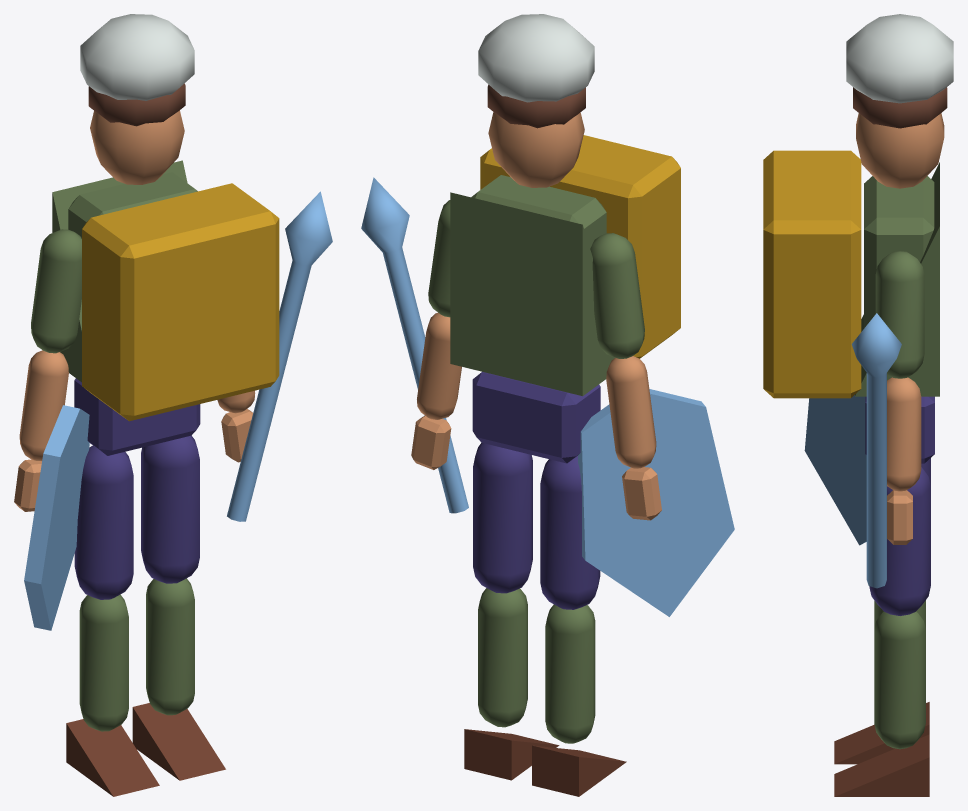
The model's file is adventurer.rustic.glb.
3 views of the same model, side by side, from view 1: azimuth 30°, elevation 25°; view 2: azimuth 150°, elevation 25°; view 3: azimuth 270°, elevation 25° (orthographic).
Visible parts, largest first — view 1: accessory.body, accessory.off-hand, thigh.right, accessory.head, thigh.left, accessory.main-hand, shin.left, shin.right, upper-arm.left, head, foot.right, foot.left (+8 smaller); view 2: tunic, accessory.off-hand, accessory.body, accessory.head, thigh.right, pelvis, thigh.left, shin.left, shin.right, accessory.main-hand, upper-arm.left, head (+9 smaller); view 3: accessory.body, accessory.head, shin.right, accessory.off-hand, accessory.main-hand, torso, upper-arm.right, head, thigh.right, foot.right, forearm.right, tunic (+4 smaller).
Part boxes in pixels (x1,y1,x2,y2): accessory.body: (82,183,279,421); accessory.off-hand: (24,405,89,630); thigh.right: (141,435,199,583); accessory.head: (80,14,194,100); thigh.left: (74,445,133,599); accessory.main-hand: (227,191,332,521); shin.left: (79,594,128,731); shin.right: (146,578,194,715); upper-arm.left: (31,229,81,353); head: (90,110,184,184); foot.right: (132,703,225,780); foot.left: (66,719,159,796); tunic: (450,192,614,396); accessory.off-hand: (578,389,734,616); accessory.body: (480,135,680,358); accessory.head: (478,14,594,102); thigh.right: (473,442,532,593); pelvis: (472,371,600,463); thigh.left: (540,456,600,609); shin.left: (545,604,595,743); shin.right: (478,588,527,727); accessory.main-hand: (361,177,468,513); upper-arm.left: (590,233,644,358); head: (488,112,584,187); accessory.body: (763,150,861,398); accessory.head: (846,14,953,103); shin.right: (874,611,925,749); accessory.off-hand: (804,395,866,545); accessory.main-hand: (851,313,901,588); torso: (864,176,934,328); upper-arm.right: (875,251,924,378); head: (856,113,944,188); thigh.right: (869,467,930,615); foot.right: (834,734,929,796); forearm.right: (887,377,921,491); tunic: (855,162,939,396).
Bounding box in the file's own units: 1.52 × 3.2 × 0.738.
